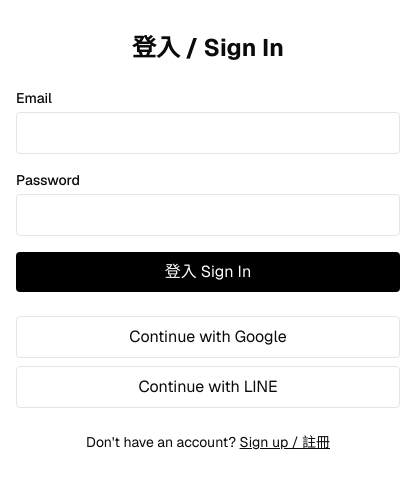
Test: LoginPage › shows error on invalid credentials
Type "bad@email.com" into the field labelled "Email" at {"x": 208, "y": 133}, box [16, 112, 400, 154]
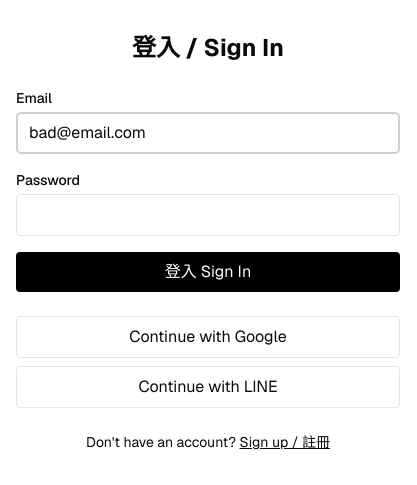
Type "wrong" into the password field labelled "Password" at {"x": 208, "y": 215}, box [16, 194, 400, 236]
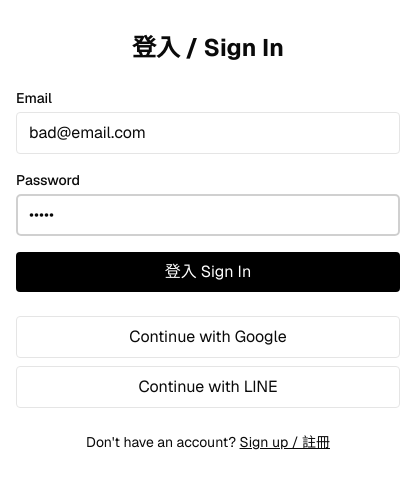
Click the button "登入 Sign In" at {"x": 208, "y": 272}, box [16, 252, 400, 292]
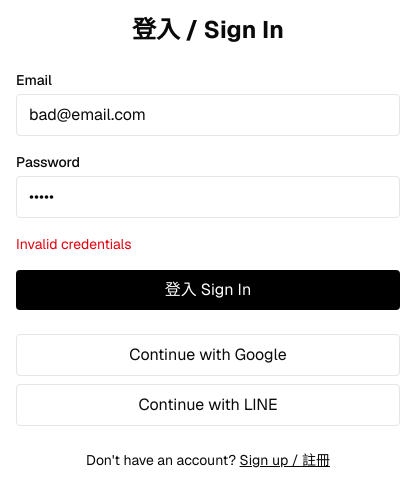
Now the text "Invalid credentials" is shown, box [16, 235, 132, 253]
